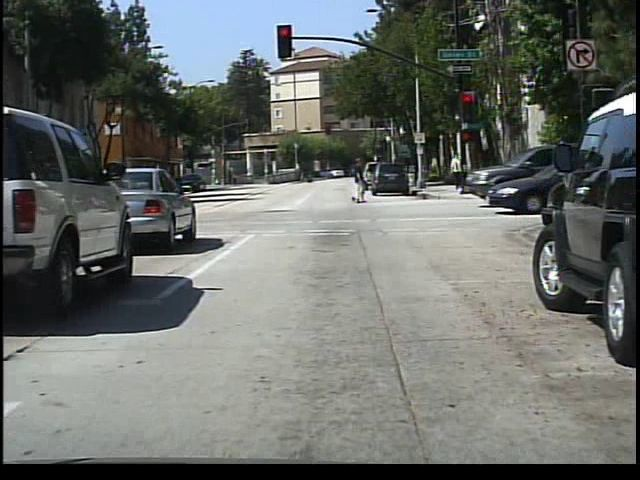person: (348, 157, 373, 207), (450, 150, 465, 190)
